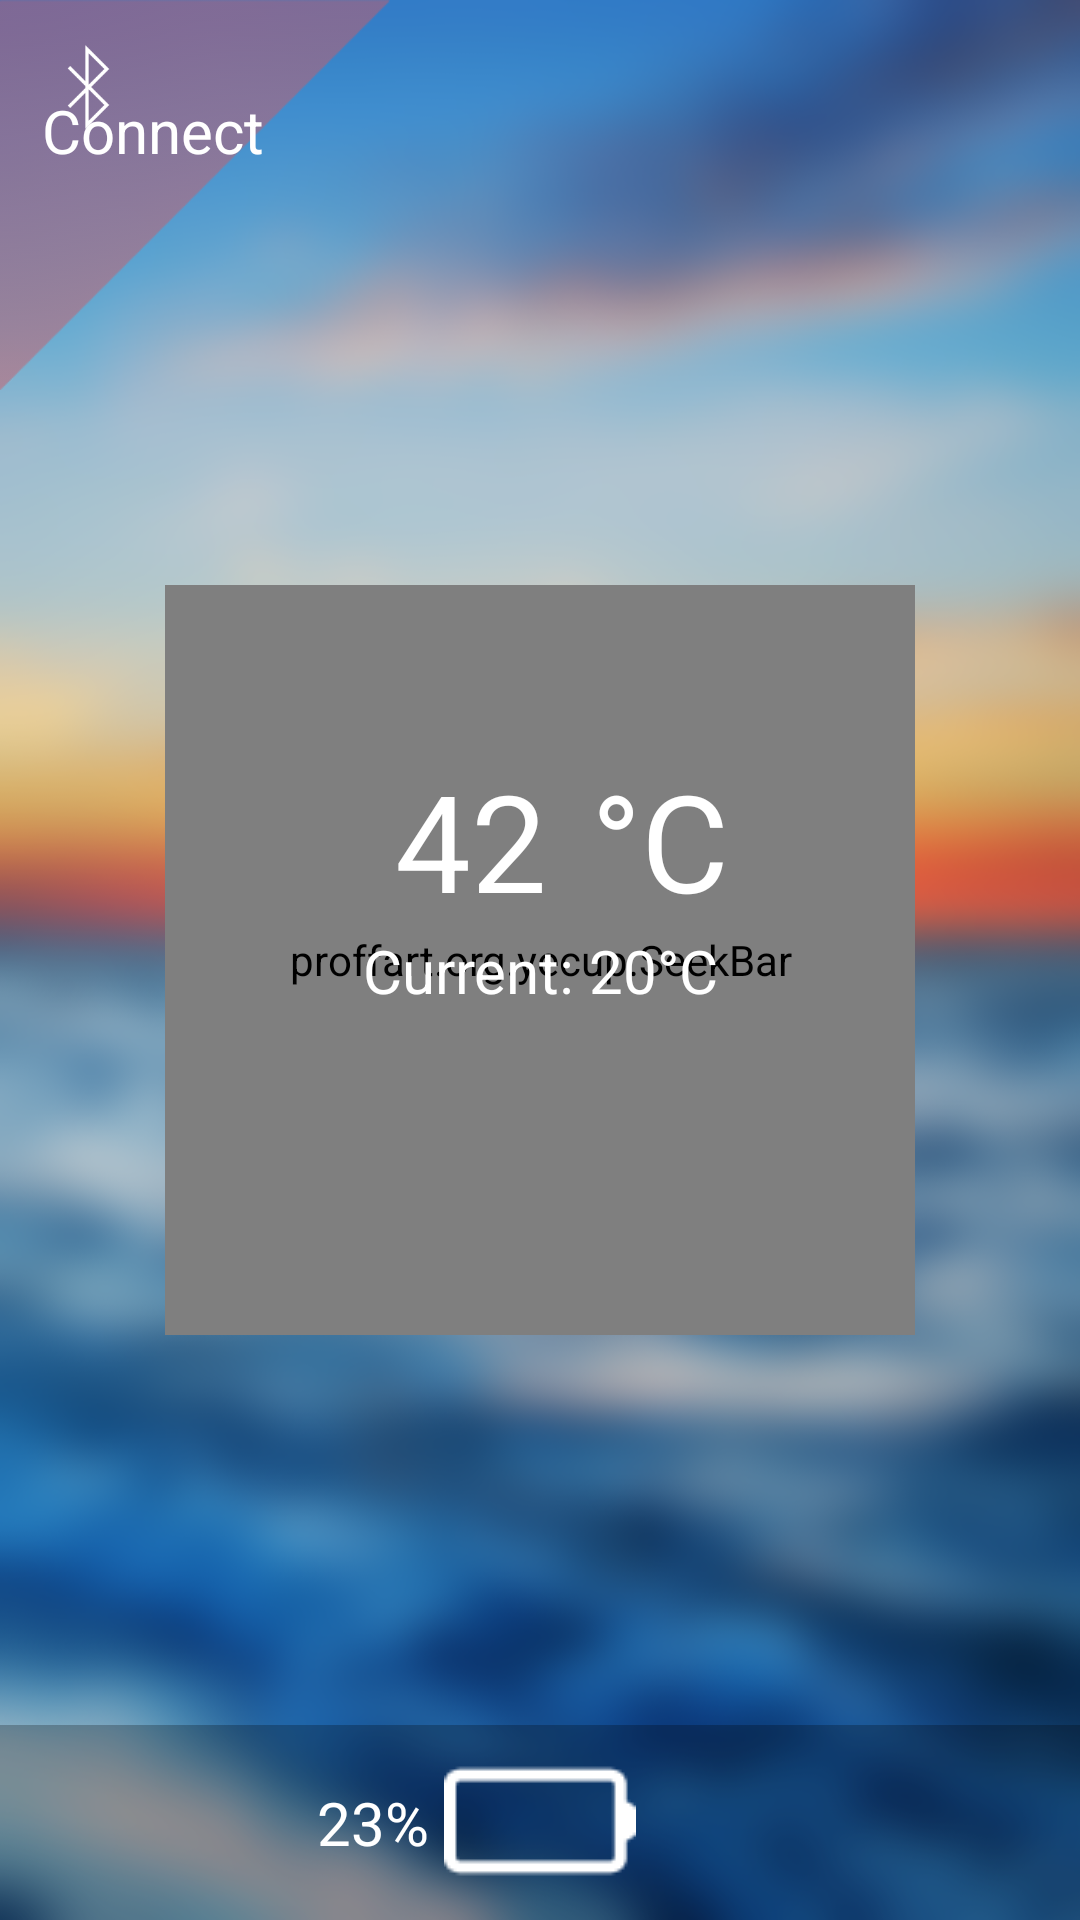

Point at icon controls on the screen. Image size 1080w x 1920h, points as (x=x, y=y).
battery: (x=540, y=1821)
